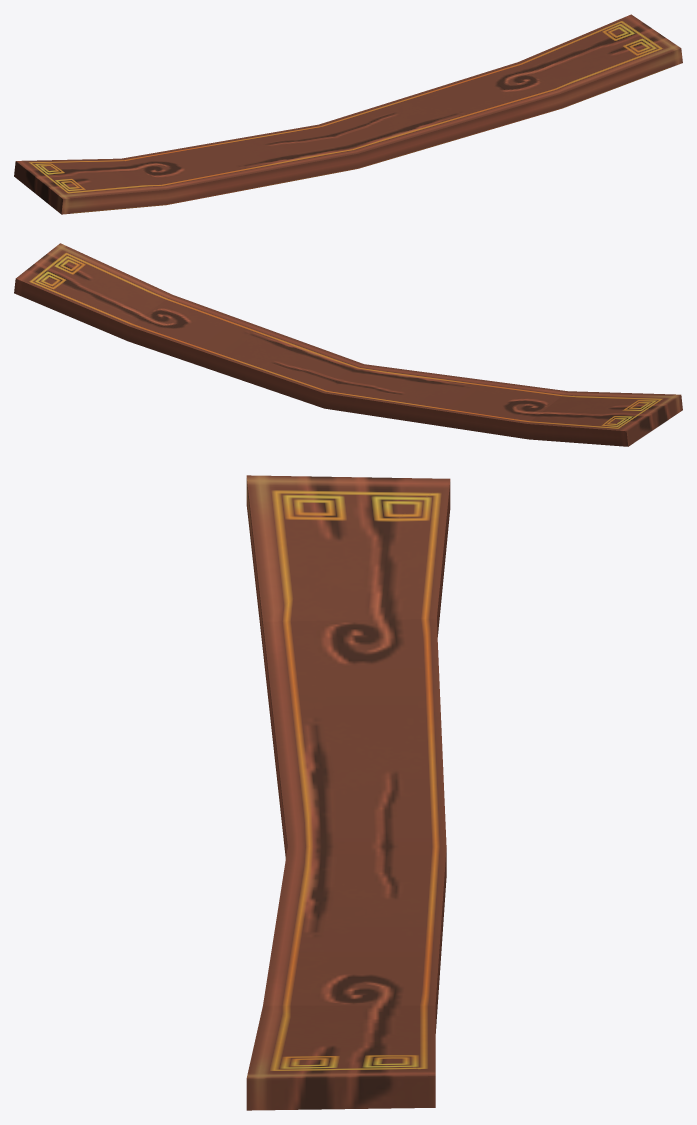
File: Crate_WoodBar.FBX
3 renders of one model, top to bottom at view 1: azimuth 30°, elevation 25°; view 2: azimuth 150°, elevation 25°; view 3: azimuth 270°, elevation 25°, orthographic. The views are drawn at different scales.
Parts seen in each view (by area): view 1: Crate_WoodBar; view 2: Crate_WoodBar; view 3: Crate_WoodBar.
Boxes of the visible parts, <box> form: Crate_WoodBar: <box>14,14,682,214</box>; Crate_WoodBar: <box>14,243,682,446</box>; Crate_WoodBar: <box>246,475,450,1110</box>.
Size of the model in its own units: 204 by 16.22 by 28.91.
